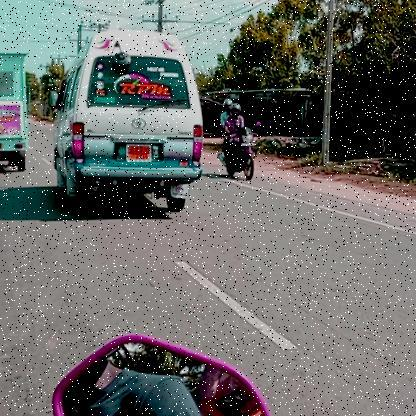motorcycle: (214, 125, 260, 185)
